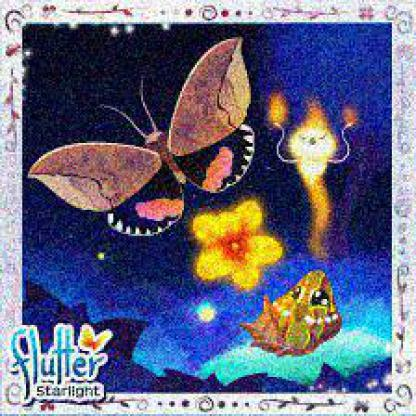fruit sucking moth: (27, 37, 257, 240)
